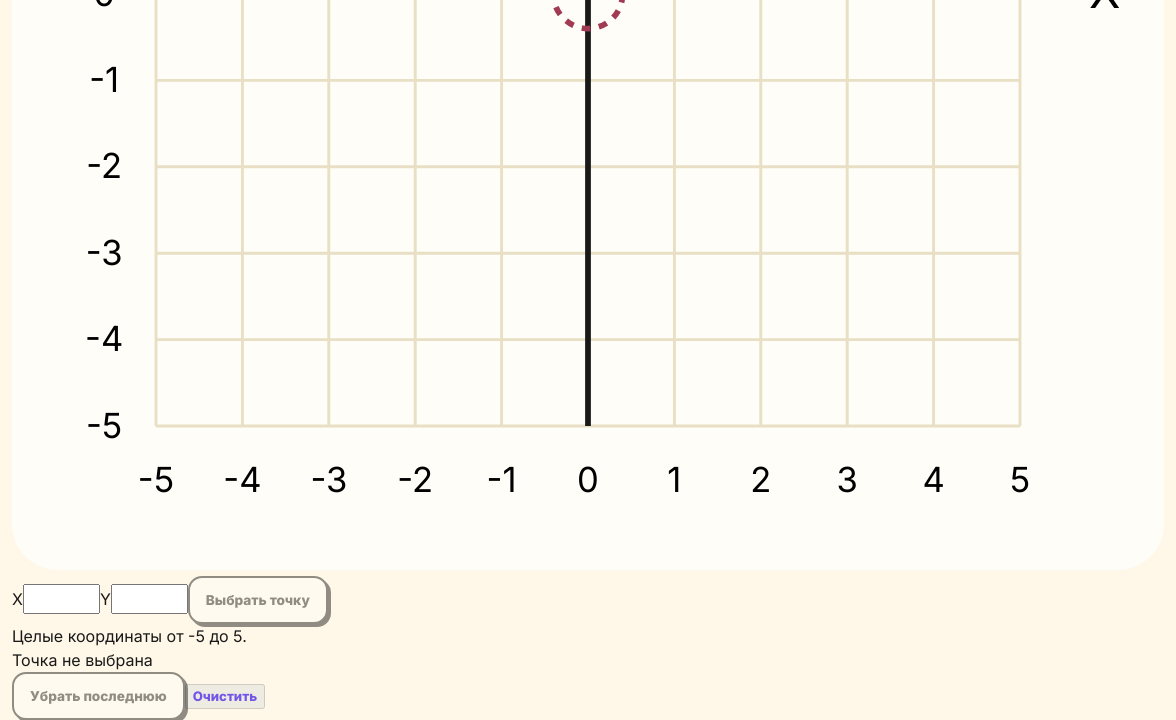
selects a point from both numeric coordinates
(page scrolled)
Type "-3" into the number field labelled "X".
click(61, 598); type("-3")  # box 23,584 -> 100,614
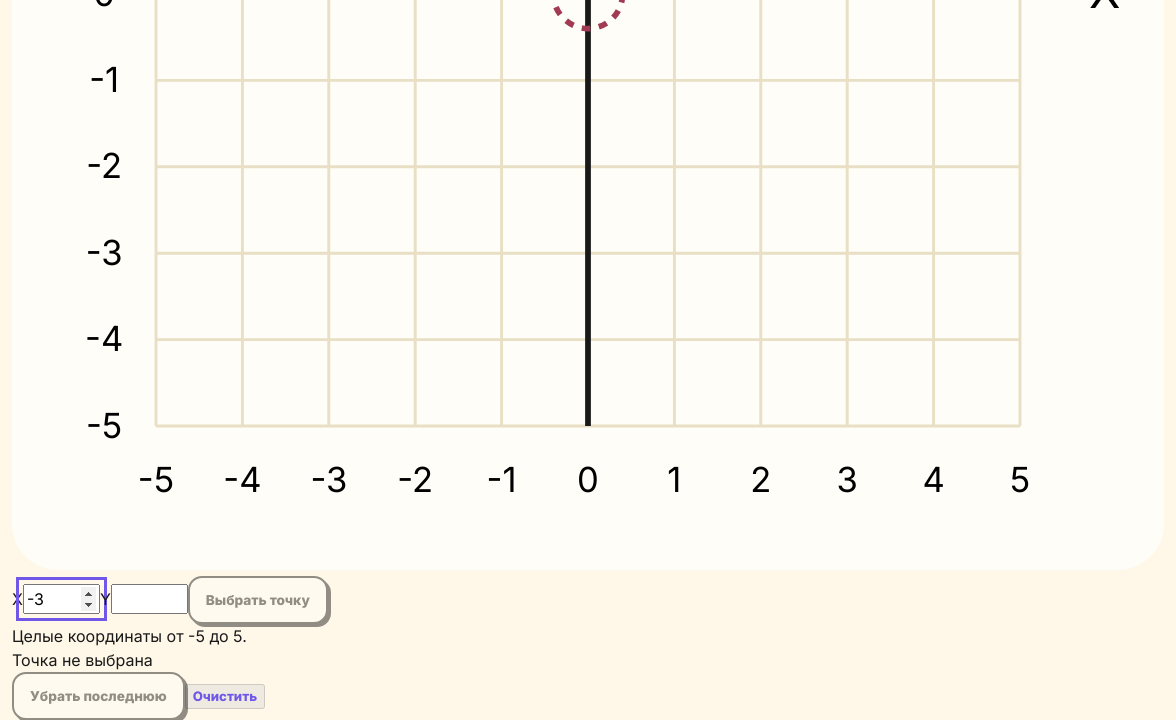
Expected: the button "Выбрать точку" is disabled, 188,576 -> 328,624
Type "2" into the number field labelled "Y".
click(149, 598); type("2")  # box 111,584 -> 188,614
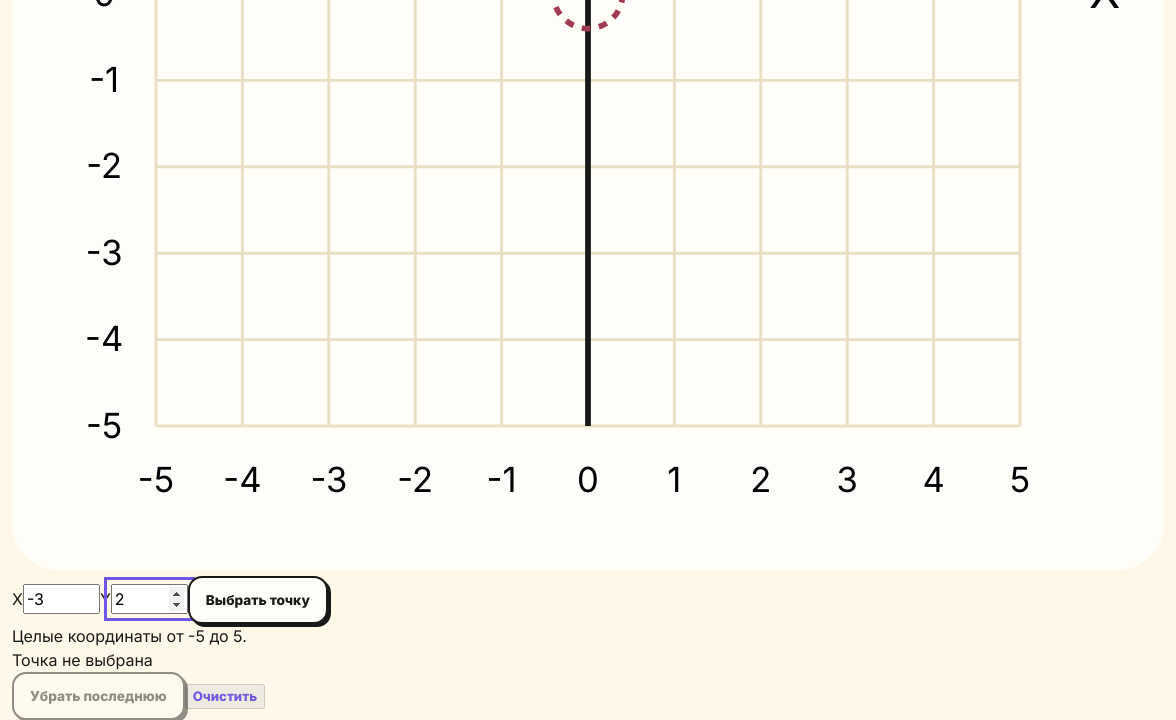
Click the button "Выбрать точку".
click(258, 600)  # box 188,576 -> 328,624
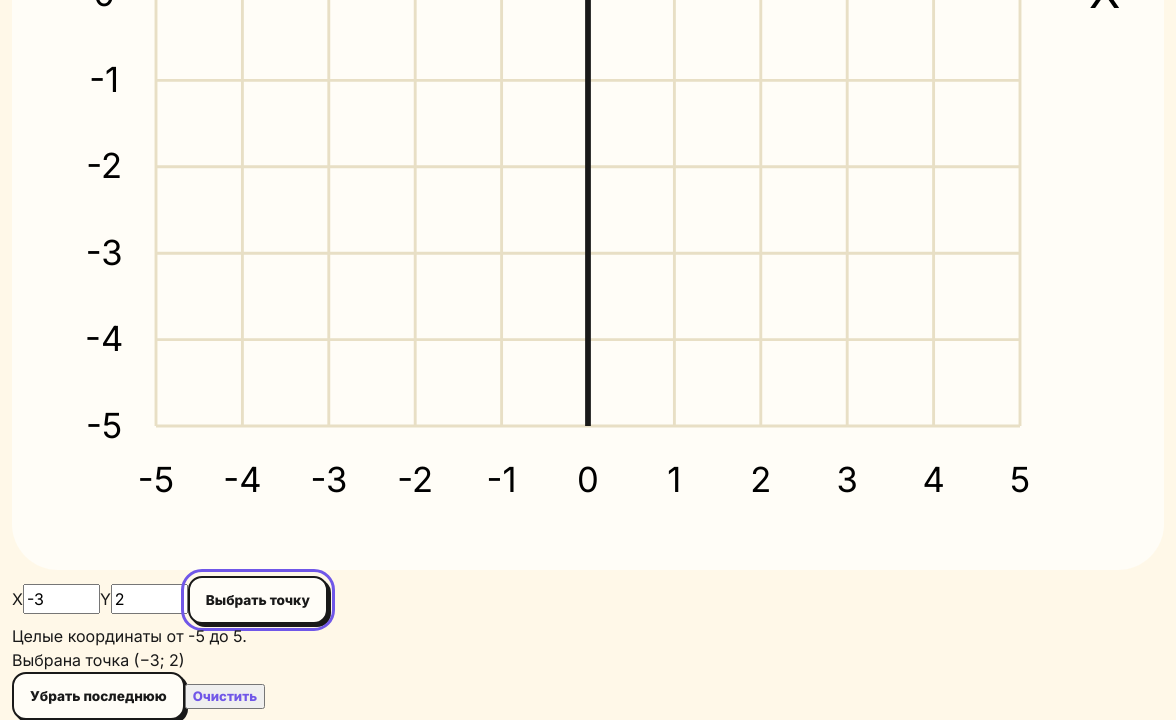
Expected: the message shows "(−3; 2)", 12,650 -> 185,670
